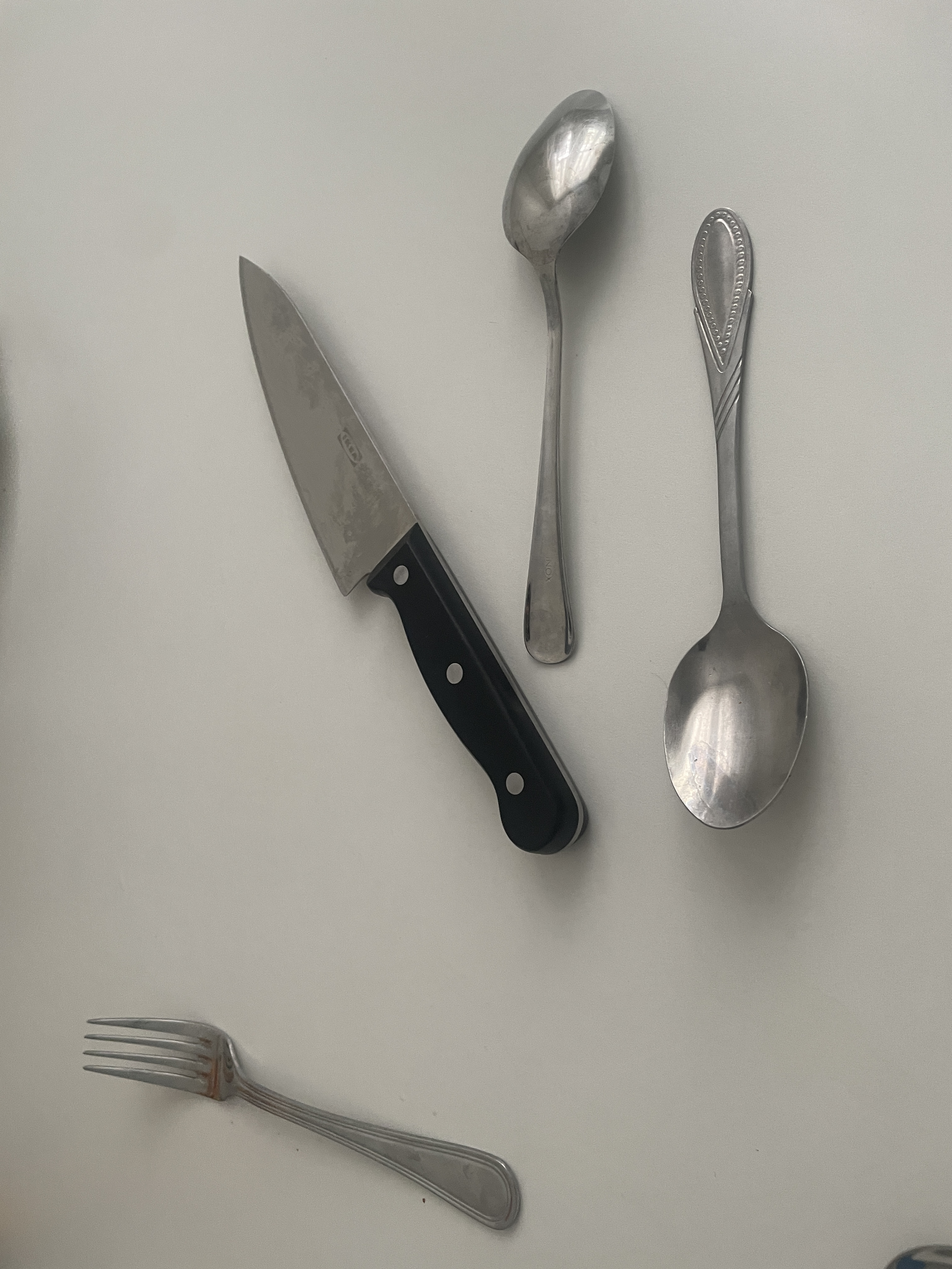knife: (240, 259, 586, 853)
spoon: (665, 208, 807, 828), (503, 90, 615, 663)
